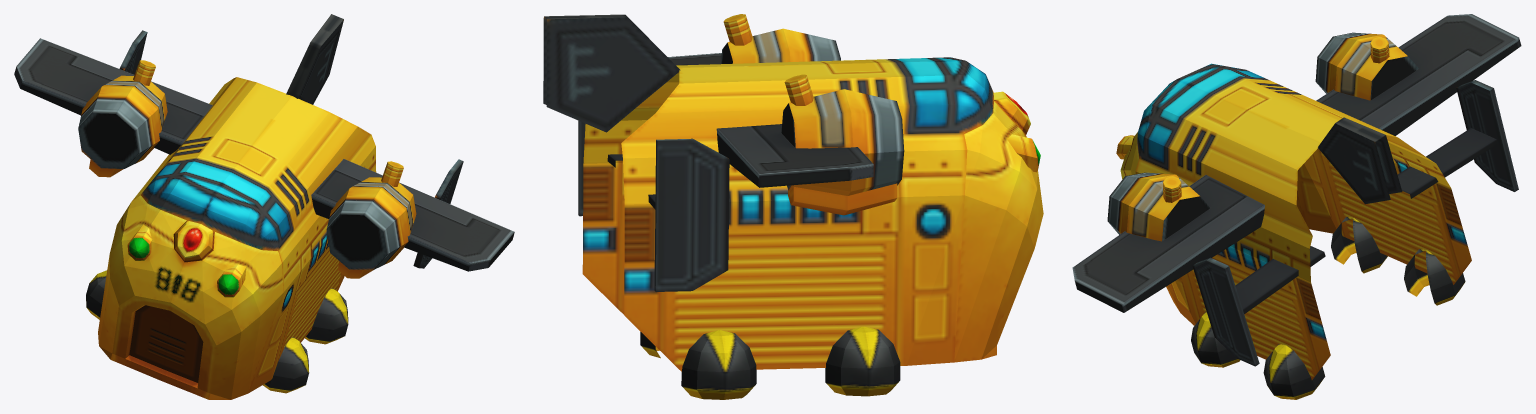
3 views of the same model, side by side, from view 1: azimuth 30°, elevation 25°; view 2: azimuth 150°, elevation 25°; view 3: azimuth 270°, elevation 25° (orthographic). The views are drawn at different scales.
Parts seen in each view (by area): view 1: Object166; view 2: Object166; view 3: Object166.
Part boxes in pixels (bbox=[...]): Object166: bbox=[14, 14, 514, 399]; Object166: bbox=[543, 14, 1043, 399]; Object166: bbox=[1072, 14, 1521, 399].
Size of the model in its own units: 229 by 177 by 247.
